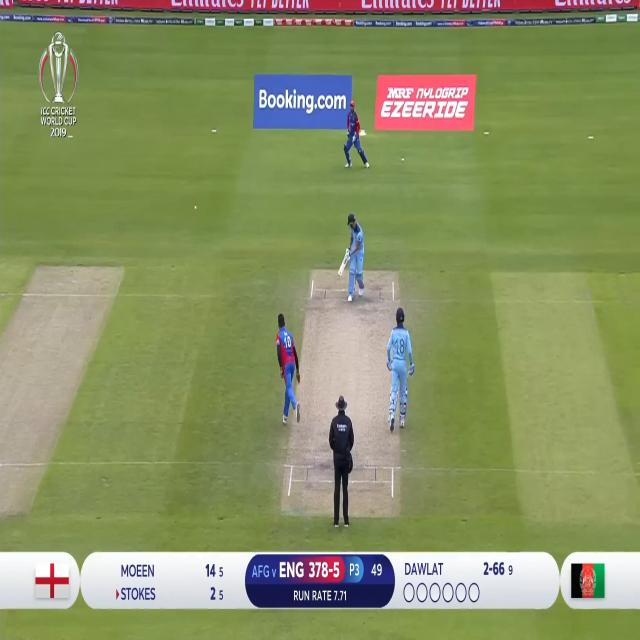ball: (193, 202, 200, 212)
